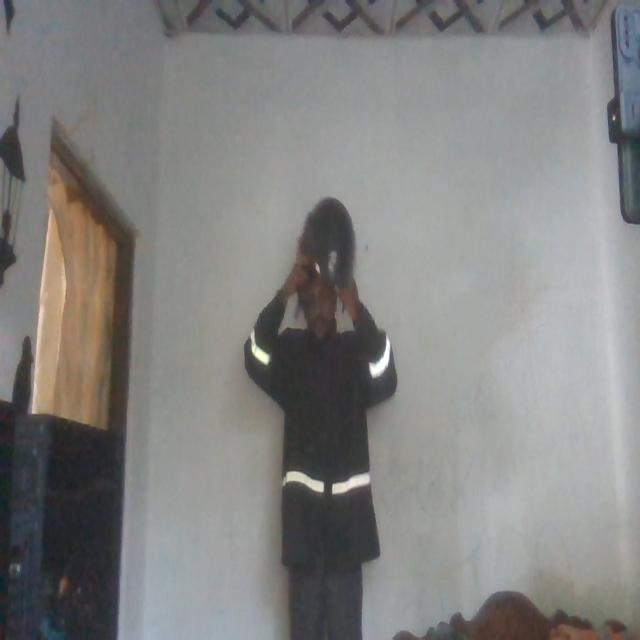Helmet_Wearer: (284, 192, 357, 351)
Jacket_Wearer: (252, 288, 401, 572)
Person: (244, 188, 400, 640)
